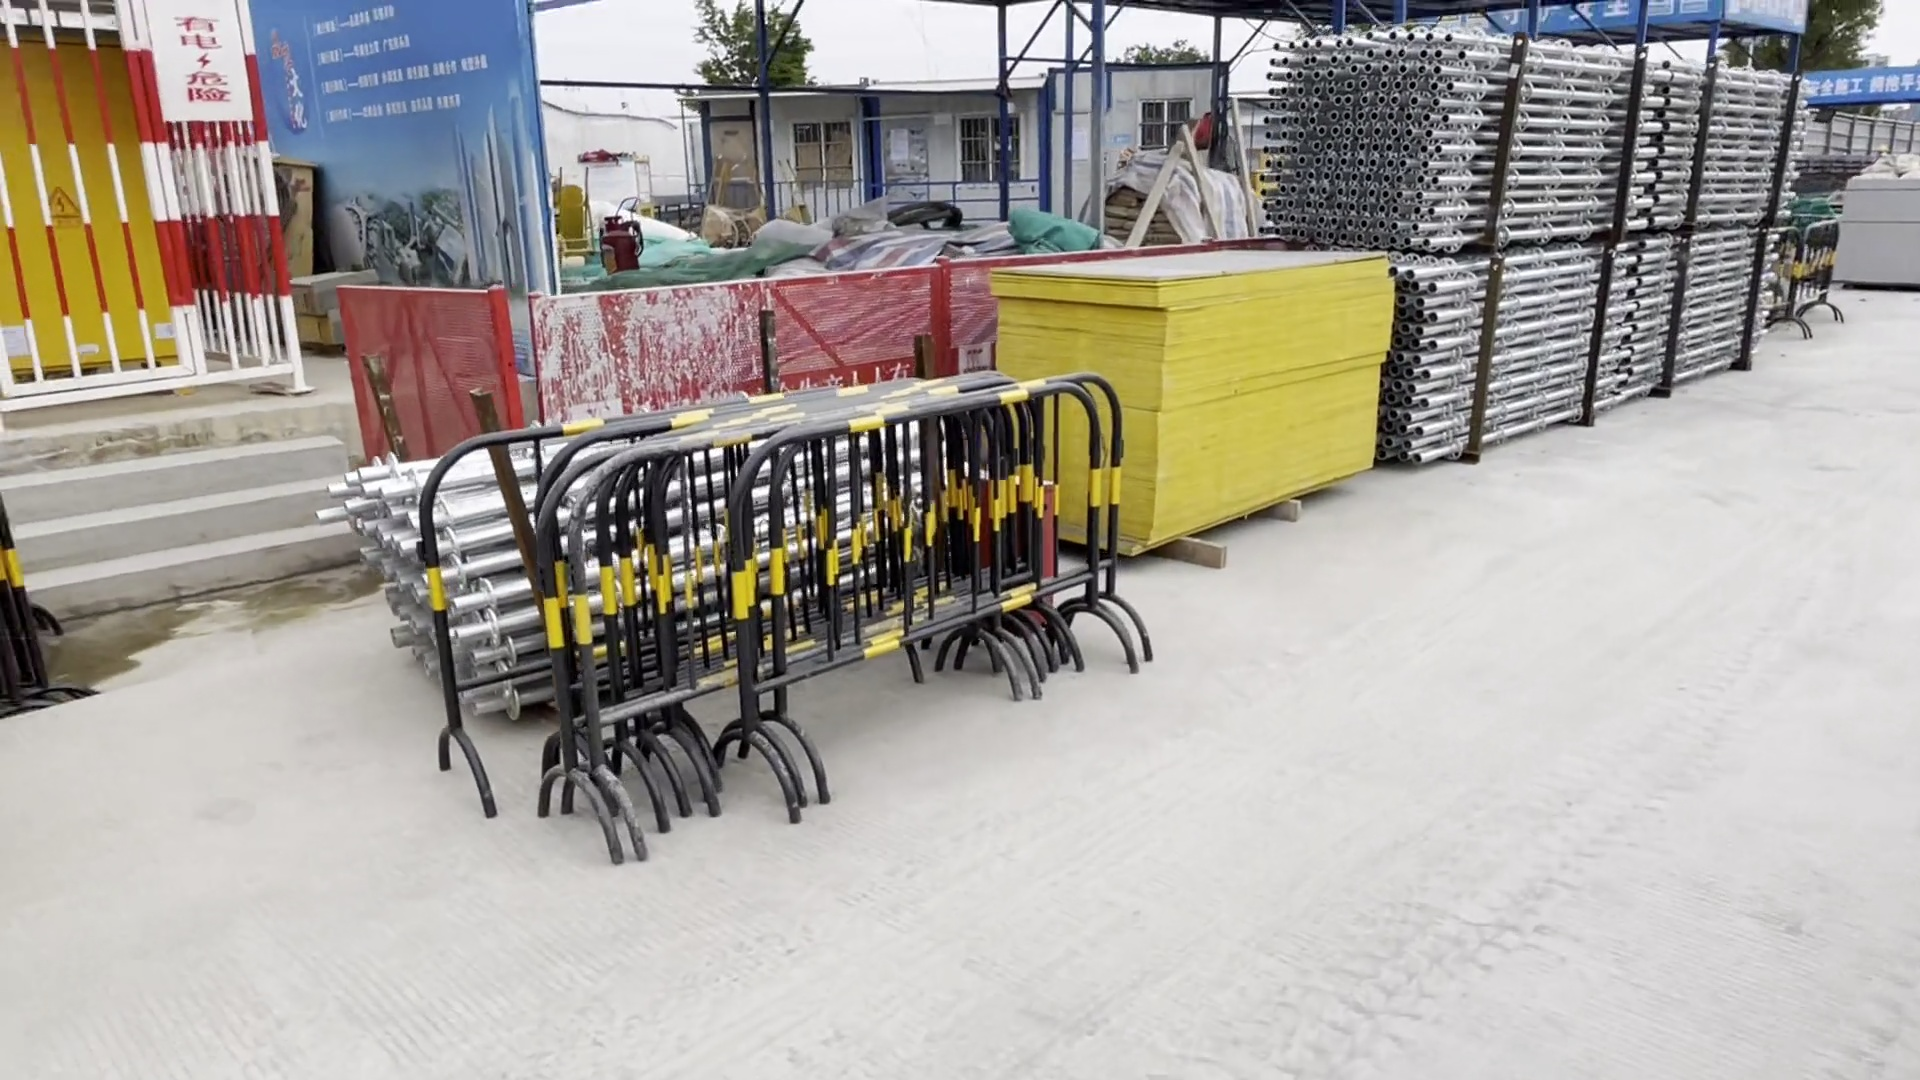board: (1004, 256, 1396, 530)
brick: (1818, 162, 1915, 295)
ebox: (1, 46, 175, 386)
fence: (464, 433, 1064, 733), (386, 287, 965, 405)
scaffold: (1247, 49, 1789, 440)
